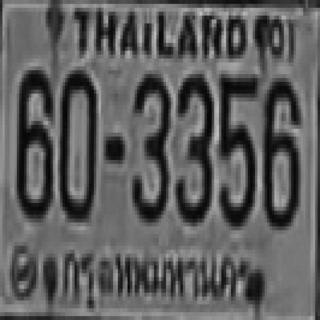N00: (59, 66, 95, 219)
N03: (173, 70, 212, 219), (130, 70, 168, 219)
N05: (216, 70, 255, 222)
N06: (262, 74, 298, 226), (16, 66, 52, 215)
P04: (62, 240, 254, 310)
